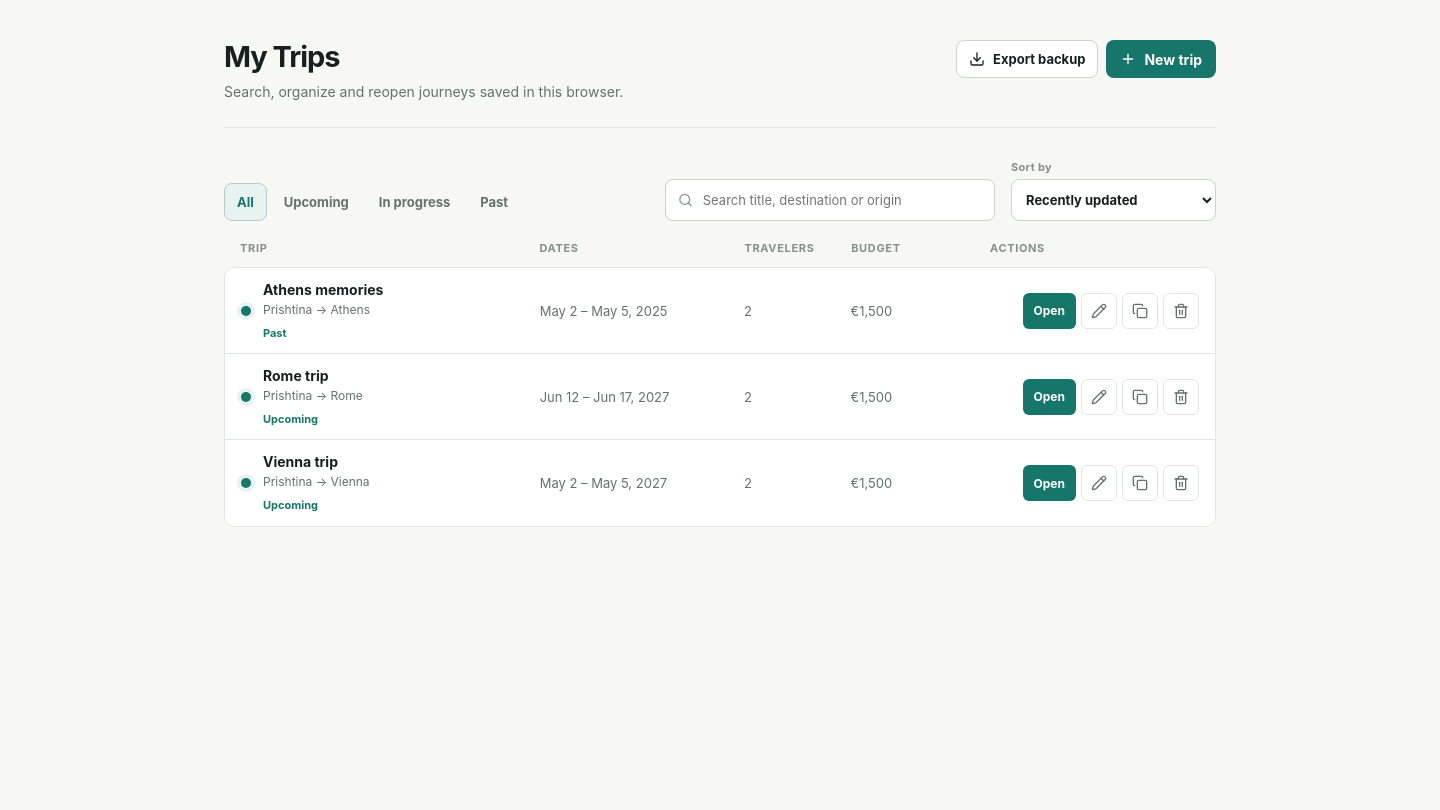
Test case: My Trips management › duplicates independently and deletes only after confirmation
Expected: the heading "Rome trip" is shown, [263,366,329,384]
Click the button named "Duplicate Rome trip" at (1140,396), box [1122,378,1158,414]
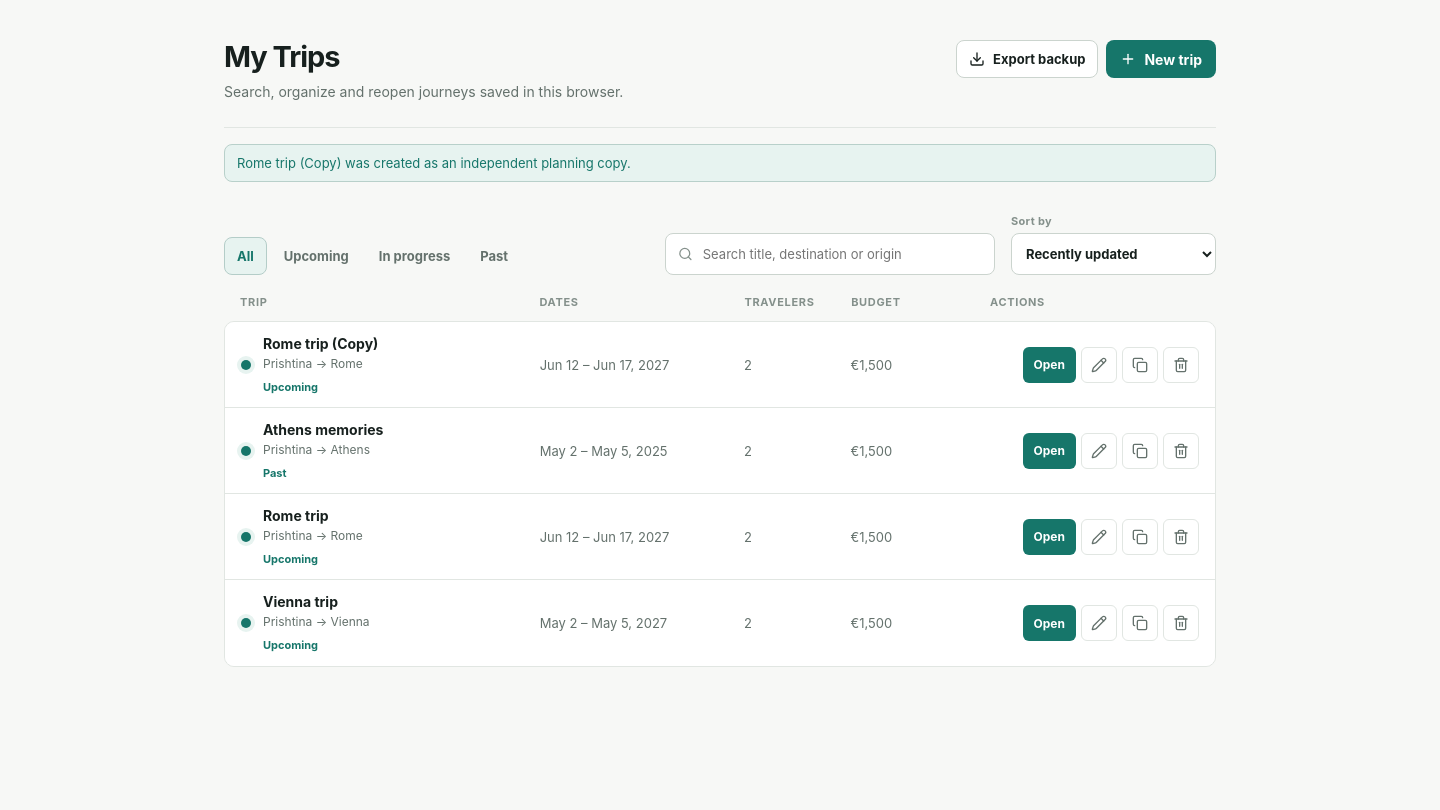
Result: the heading "Rome trip (Copy)" is shown at [263,334,378,352]
Click the button named "Delete Rome trip (Copy)" at (1181,364), box [1163,346,1199,382]
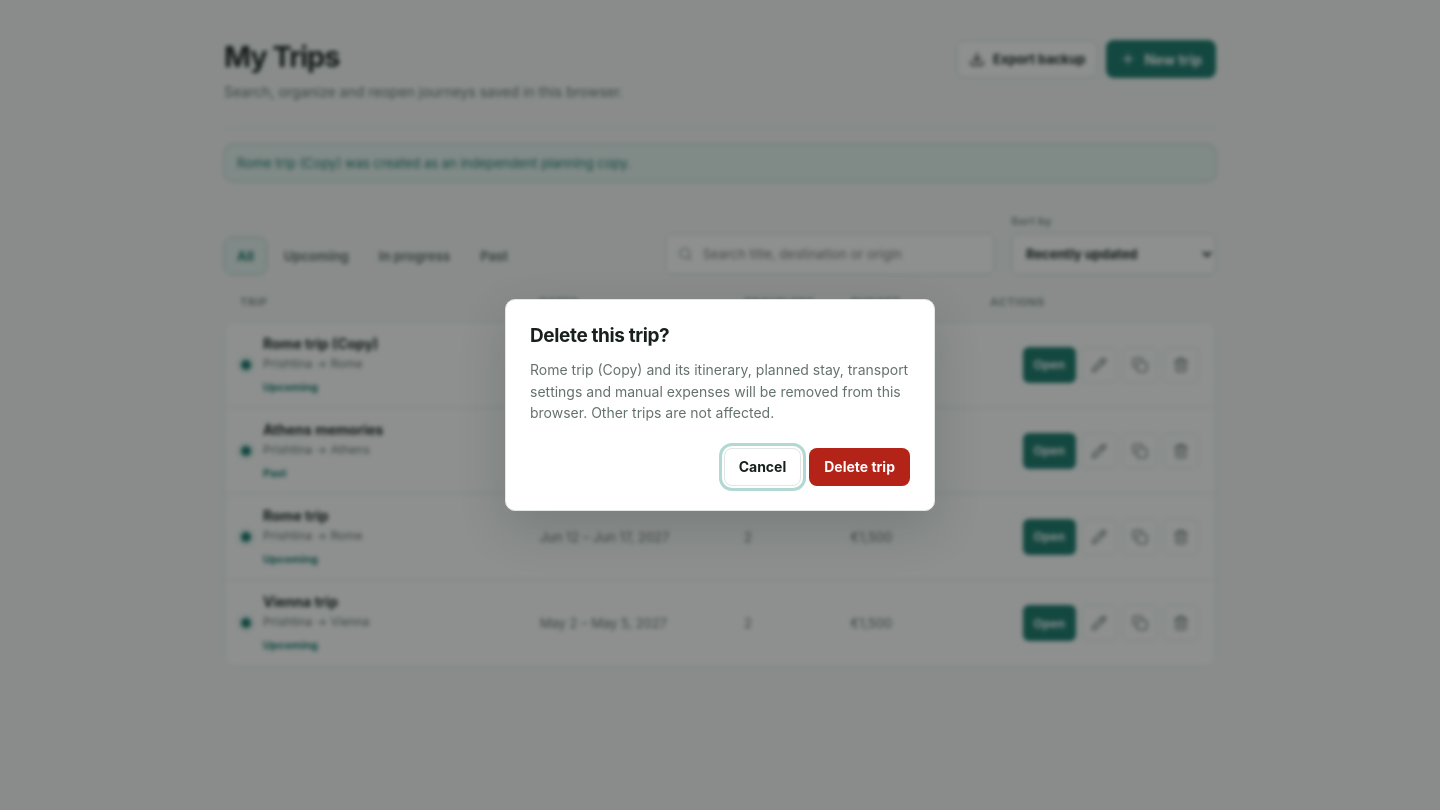
Result: the heading "Rome trip (Copy)" is shown at [263,334,378,352]
Result: the dialog "Delete this trip?" shows "itinerary, planned stay, transport settings and manual expenses" at [530,361,908,421]
Click the button "Delete trip" at (860,467), box [809,448,910,486]
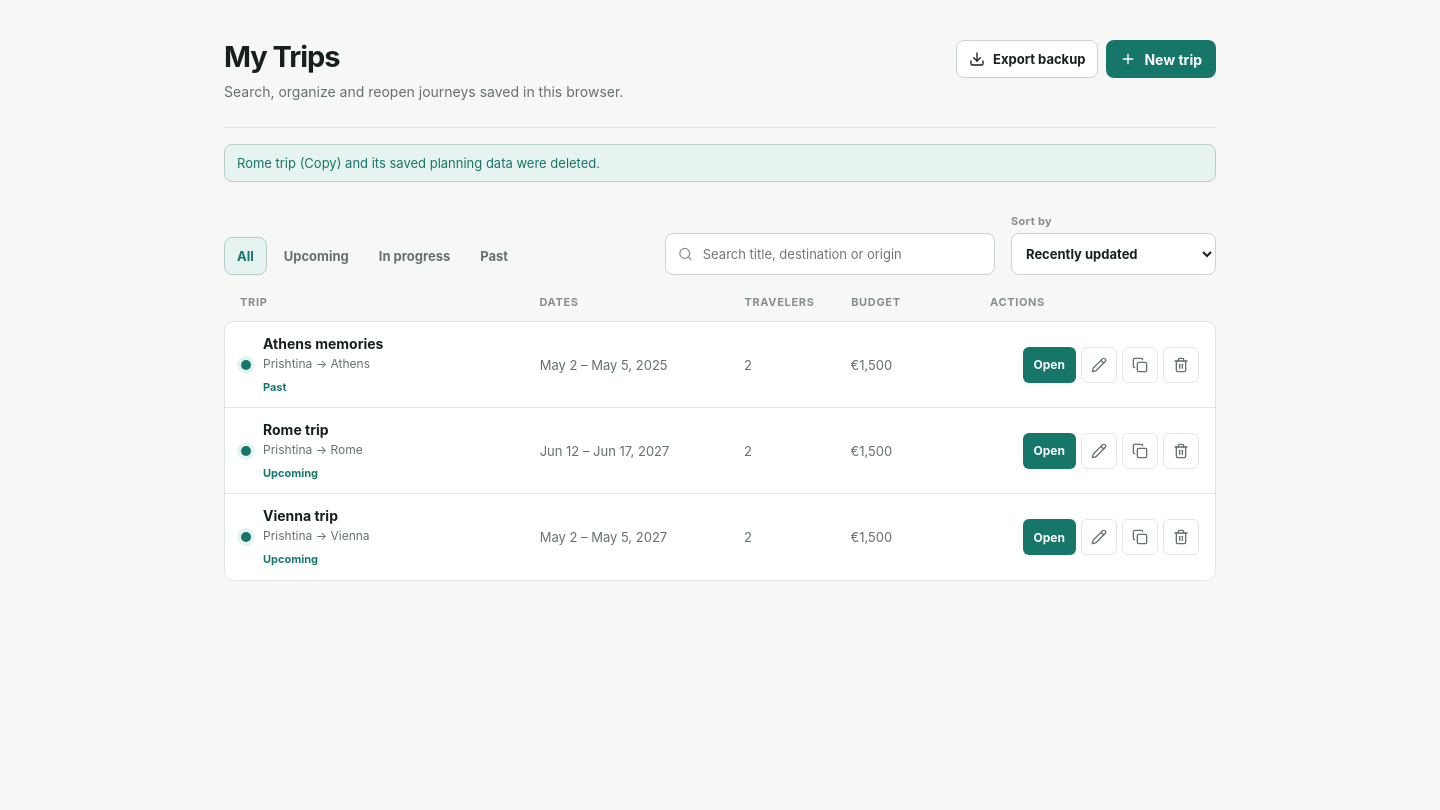
Expected: the heading "Rome trip" is shown, [263,420,329,438]
Result: the text "Rome trip (Copy) and its saved planning data were deleted." is shown at [224,144,1216,182]
